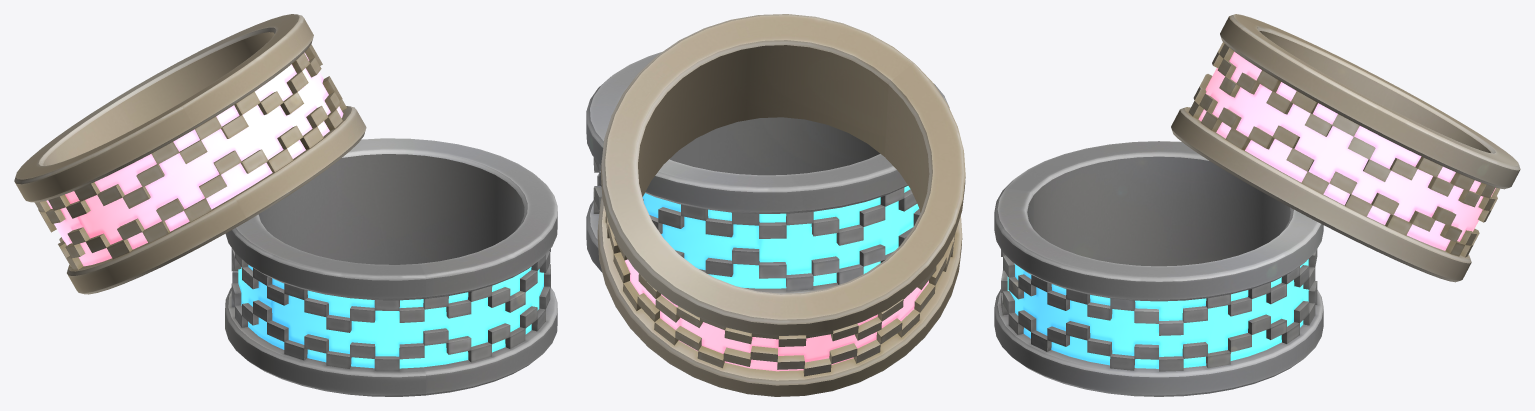
The model's file is fantasy_rings.glb.
3 renders of one model, left to right at view 1: azimuth 30°, elevation 25°; view 2: azimuth 150°, elevation 25°; view 3: azimuth 270°, elevation 25°, orthographic. The views are drawn at different scales.
Visible parts, largest first — view 1: Ring001, Ring002; view 2: Ring002, Ring001; view 3: Ring001, Ring002.
Boxes of the visible parts, box(x1,y1,x2,y2) form: Ring001: box(225, 138, 557, 396); Ring002: box(14, 14, 366, 294); Ring002: box(597, 14, 965, 396); Ring001: box(586, 52, 949, 293); Ring001: box(994, 141, 1323, 396); Ring002: box(1171, 14, 1520, 282).
Size of the model in its own units: 70.15 by 43.71 by 79.88.
2 materials, 2 textured.
